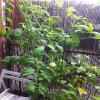Tomato leaf: (33, 45, 46, 57), (14, 29, 25, 41), (71, 32, 82, 44), (26, 85, 36, 95), (53, 44, 64, 53), (21, 69, 35, 75), (39, 84, 48, 91)
